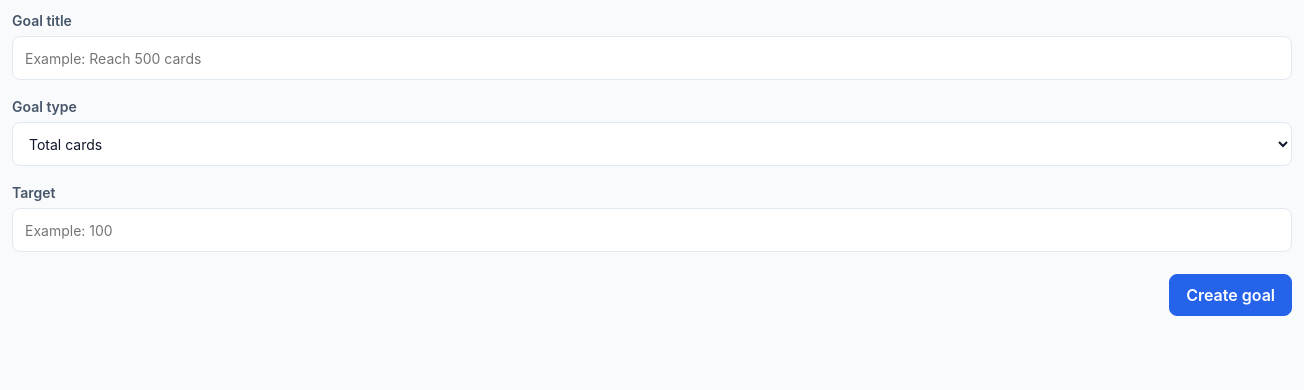
Test: CollectionGoalForm › should require collection for collection completion goal
In the field labelled "Goal title": (652,58) [12, 36, 1292, 80], type "Complete a set"
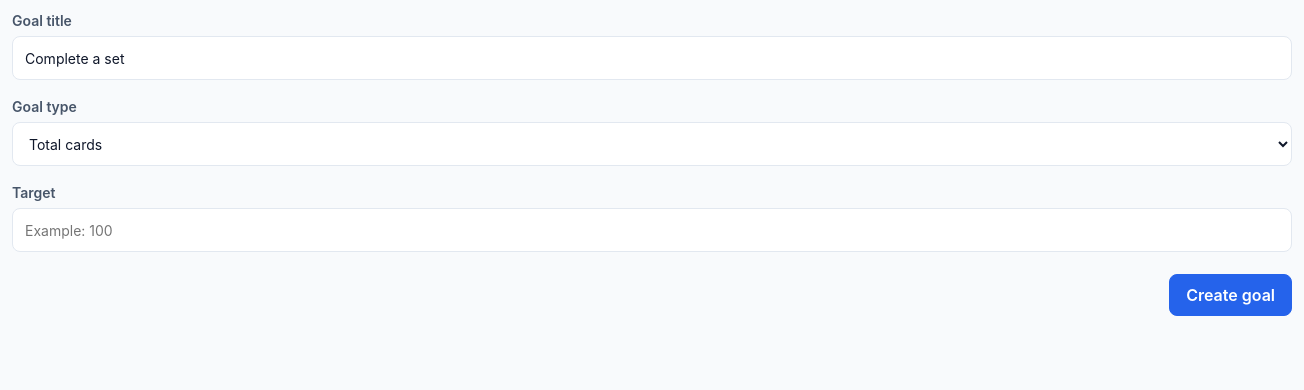
Select "Complete a collection" in the dropdown labelled "Goal type": (652,144) [12, 122, 1292, 166]
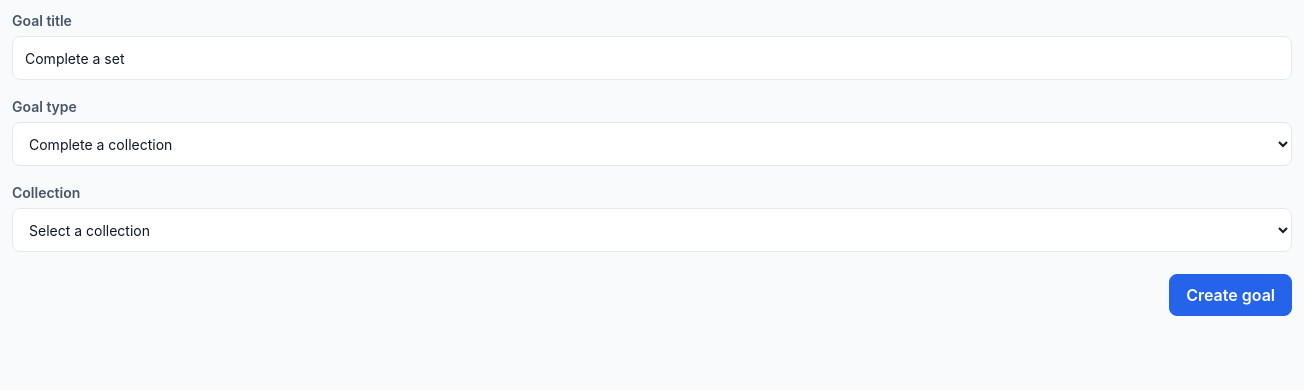
Click the button "Create goal": (1231,295) [1169, 274, 1292, 316]
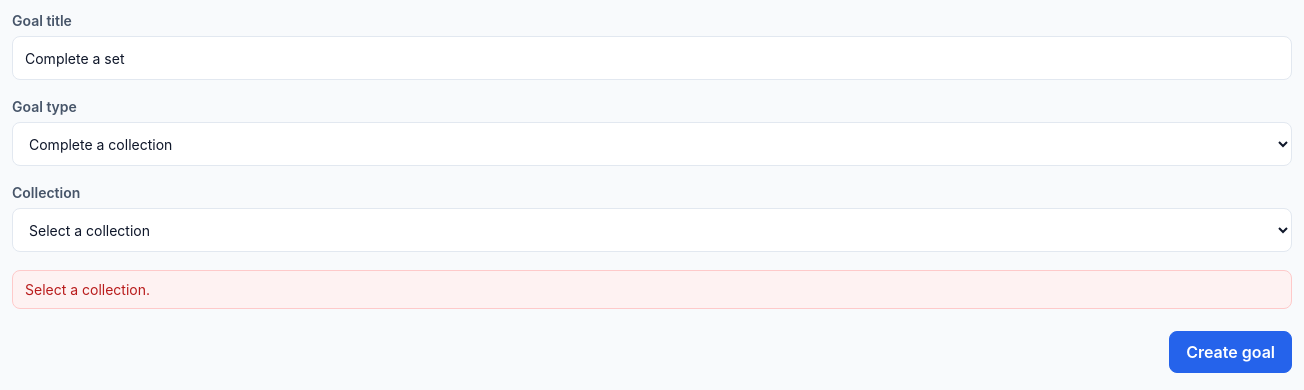
Check: the message reads "Select a collection.", box [25, 281, 150, 298]
